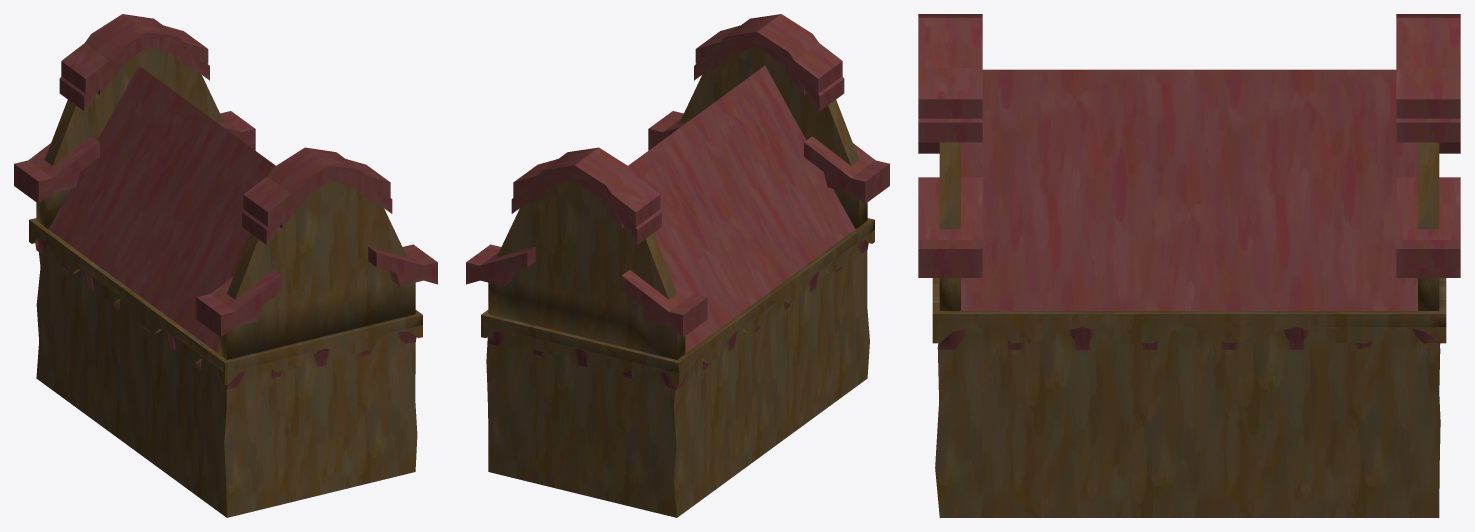
Rendered from PoorDistrictBuildingMedium_Model.fbx.
3 views of the same model, side by side, from view 1: azimuth 30°, elevation 25°; view 2: azimuth 150°, elevation 25°; view 3: azimuth 270°, elevation 25° (orthographic). The views are drawn at different scales.
Visible parts, largest first — view 1: PoorDistrictBuildingMedium_Model, PoorDistrictBuildingMedium_Roof1, PoorDistrictBuildingMedium_Roof2, PoorDistrictBuildingMedium_Roof3, PoorDistrictBuildingMedium_Trim3, PoorDistrictBuildingMedium_Trim1, PoorDistrictBuildingMedium_Trim2; view 2: PoorDistrictBuildingMedium_Roof1, PoorDistrictBuildingMedium_Model, PoorDistrictBuildingMedium_Roof2, PoorDistrictBuildingMedium_Trim3, PoorDistrictBuildingMedium_Trim1, PoorDistrictBuildingMedium_Roof3, PoorDistrictBuildingMedium_Trim2; view 3: PoorDistrictBuildingMedium_Model, PoorDistrictBuildingMedium_Roof3, PoorDistrictBuildingMedium_Roof2, PoorDistrictBuildingMedium_Roof1, PoorDistrictBuildingMedium_Trim3, PoorDistrictBuildingMedium_Trim1, PoorDistrictBuildingMedium_Trim2.
Part boxes in pixels (left/top/right/bottom): PoorDistrictBuildingMedium_Model: left=36, top=243, right=417, bottom=517; PoorDistrictBuildingMedium_Roof1: left=14, top=25, right=437, bottom=359; PoorDistrictBuildingMedium_Roof2: left=36, top=14, right=406, bottom=355; PoorDistrictBuildingMedium_Roof3: left=14, top=32, right=437, bottom=359; PoorDistrictBuildingMedium_Trim3: left=29, top=219, right=422, bottom=385; PoorDistrictBuildingMedium_Trim1: left=31, top=218, right=422, bottom=389; PoorDistrictBuildingMedium_Trim2: left=29, top=218, right=422, bottom=386; PoorDistrictBuildingMedium_Roof1: left=466, top=25, right=889, bottom=359; PoorDistrictBuildingMedium_Model: left=486, top=243, right=869, bottom=517; PoorDistrictBuildingMedium_Roof2: left=497, top=14, right=867, bottom=359; PoorDistrictBuildingMedium_Trim3: left=481, top=218, right=874, bottom=385; PoorDistrictBuildingMedium_Trim1: left=485, top=219, right=874, bottom=389; PoorDistrictBuildingMedium_Roof3: left=466, top=53, right=889, bottom=359; PoorDistrictBuildingMedium_Trim2: left=481, top=220, right=873, bottom=386; PoorDistrictBuildingMedium_Model: left=935, top=327, right=1440, bottom=517; PoorDistrictBuildingMedium_Roof3: left=918, top=69, right=1460, bottom=310; PoorDistrictBuildingMedium_Roof2: left=918, top=14, right=1460, bottom=310; PoorDistrictBuildingMedium_Roof1: left=918, top=68, right=1460, bottom=310; PoorDistrictBuildingMedium_Trim3: left=932, top=278, right=1446, bottom=343; PoorDistrictBuildingMedium_Trim1: left=932, top=278, right=1446, bottom=349; PoorDistrictBuildingMedium_Trim2: left=932, top=311, right=1445, bottom=349.
Bounding box in the file's own units: 460 × 680 × 760.
